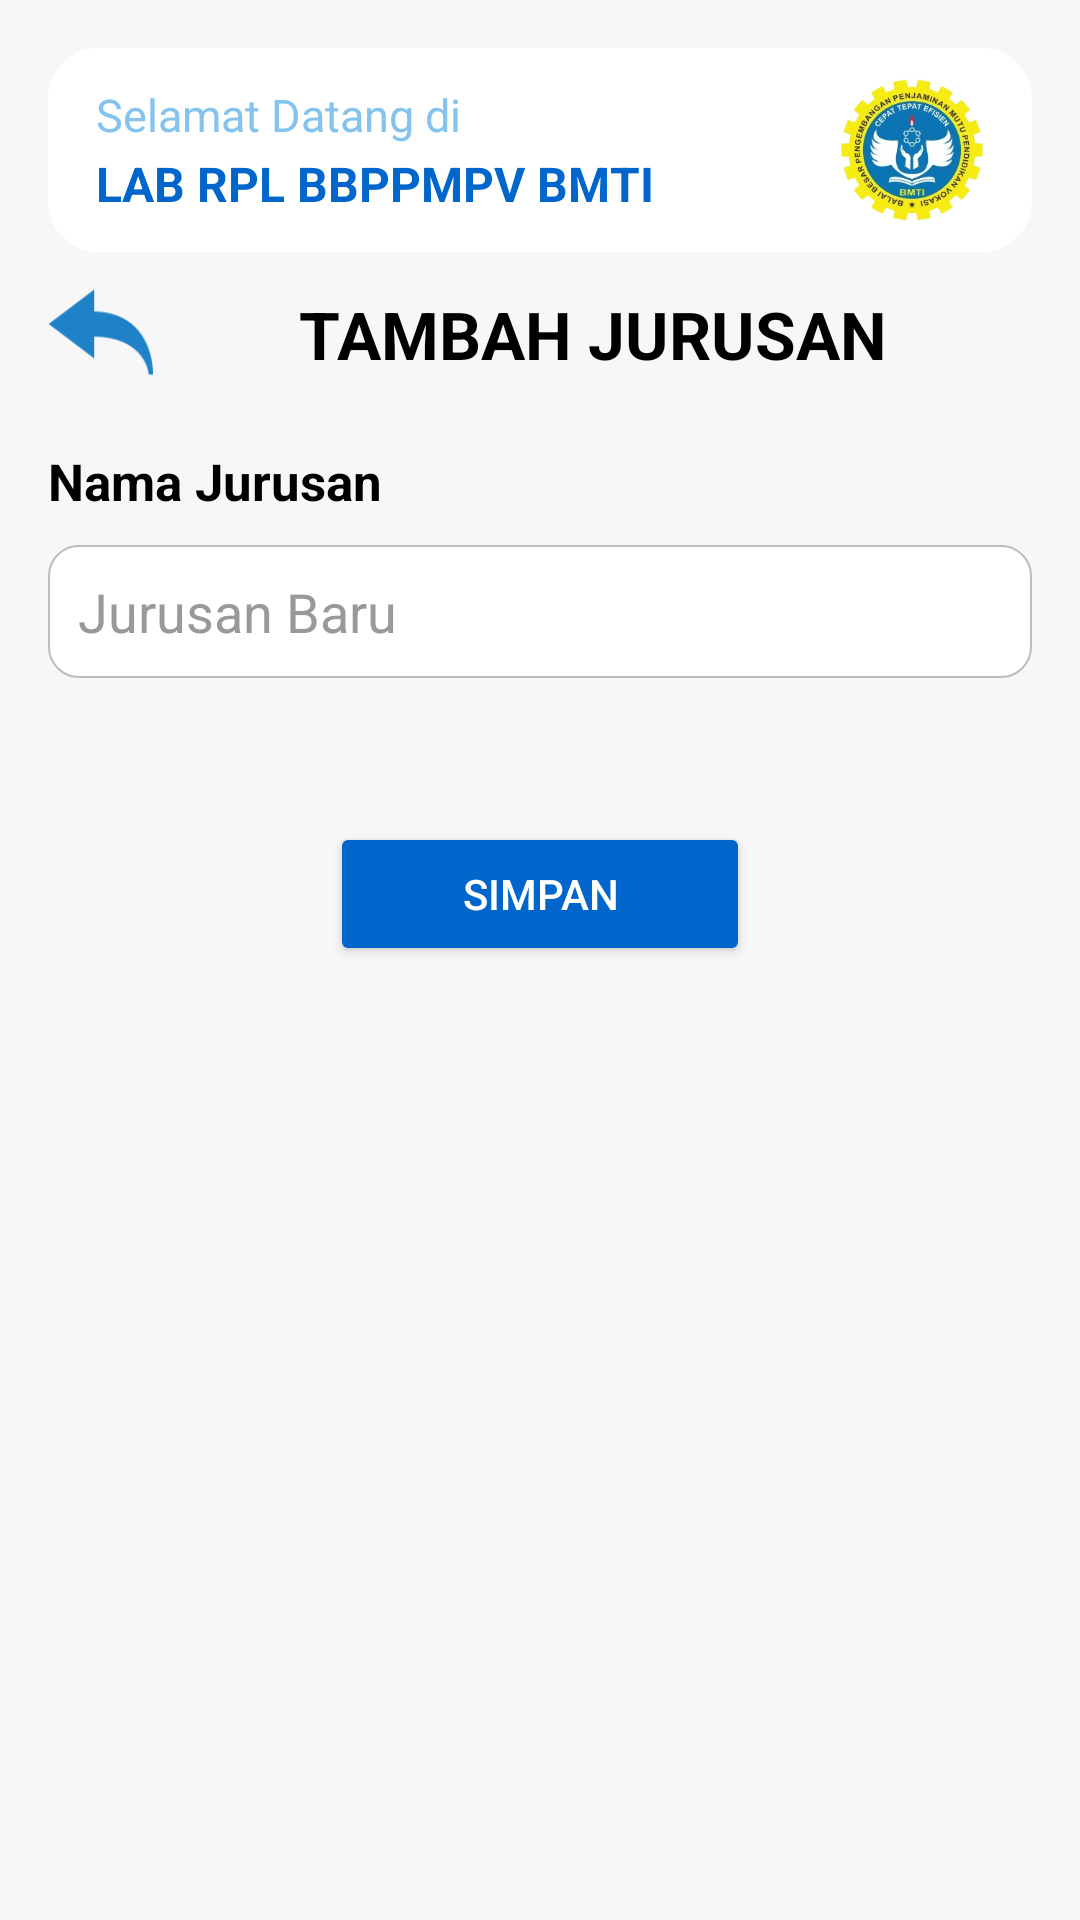

Icon click points for this 1080px x 1920px phone screenshot, format point (x, y):
back: point (101, 332)
